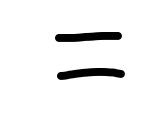eqv: (49, 27, 127, 83)
